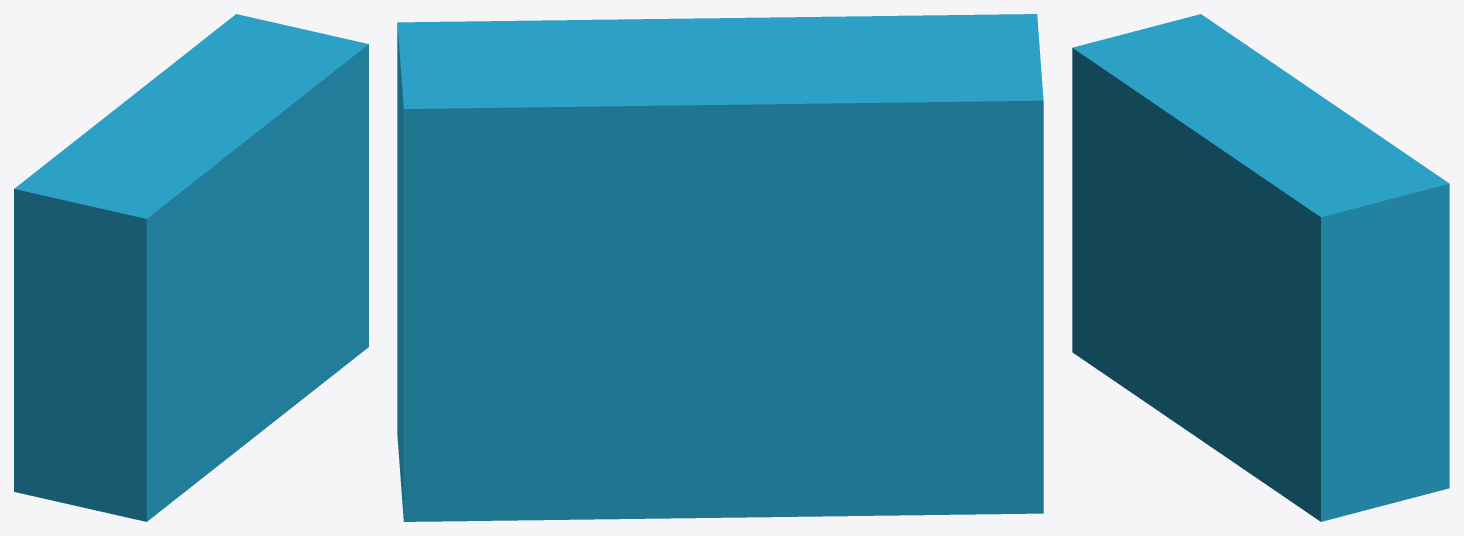
3 views of the same model, side by side, from view 1: azimuth 30°, elevation 25°; view 2: azimuth 150°, elevation 25°; view 3: azimuth 270°, elevation 25° (orthographic). The views are drawn at different scales.
Visible parts, largest first — view 1: Visual_Cube; view 2: Visual_Cube; view 3: Visual_Cube.
Boxes of the visible parts, x1=… form: Visual_Cube: x1=14, y1=14, x2=368, y2=521; Visual_Cube: x1=397, y1=14, x2=1043, y2=521; Visual_Cube: x1=1072, y1=14, x2=1449, y2=521.
Bounding box in the file's own units: 77.49 × 54.13 × 60.78.
